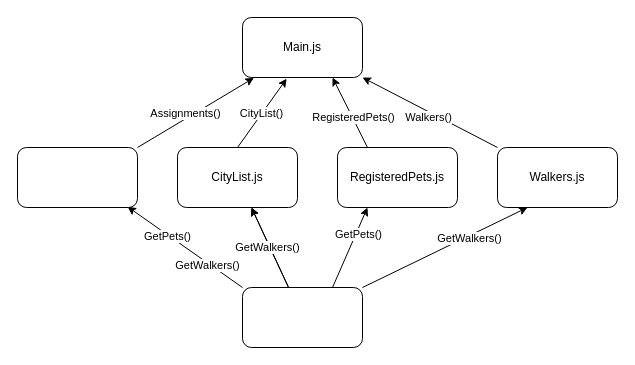
Some shapes in this 635 by 365 pixel diagram are drawn without their labels. The shapes that lost their labels are listed below. From the top down, each one's centre as x and y in pixels, then its label:
At (x=77, y=177): "Assignments.js".
At (x=302, y=317): "database.js".
